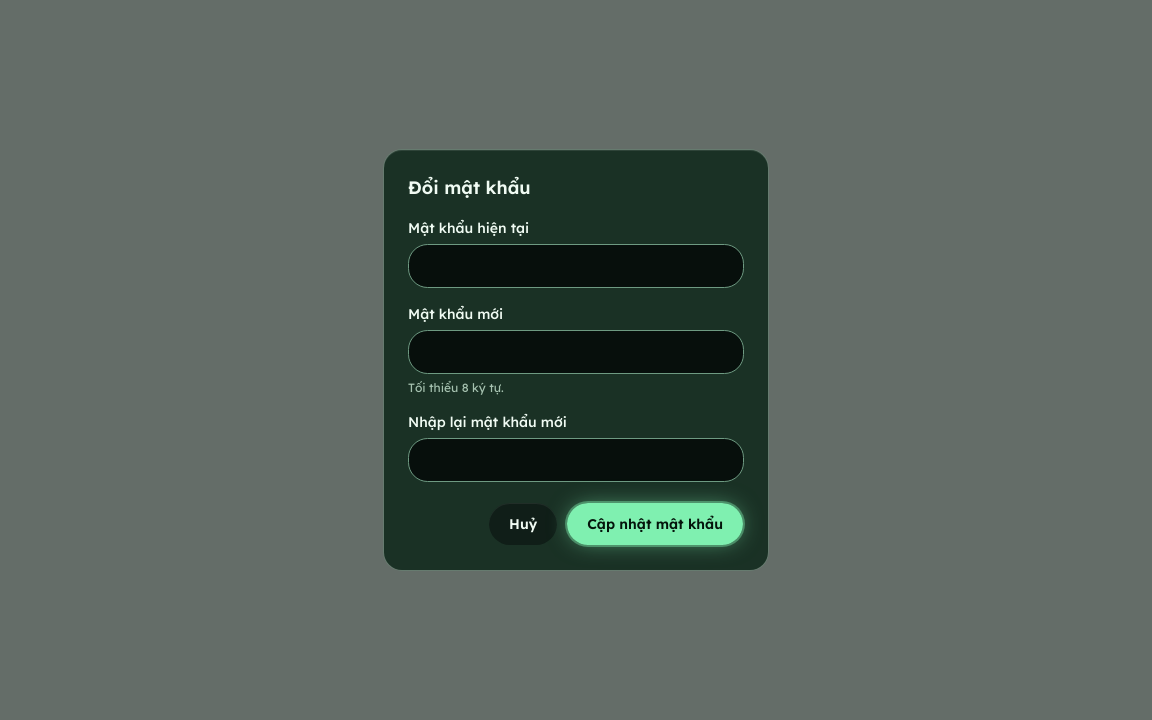
it: đường server › sai mật khẩu hiện tại → hộp thoại VẪN MỞ, gửi lại được ngay (AC-018d)
This screenshot has width=1152, height=720.
Type "sai-mat-khau" into the password field labelled "Mật khẩu hiện tại" at (576, 266), box x1=408 y1=244 x2=744 y2=288
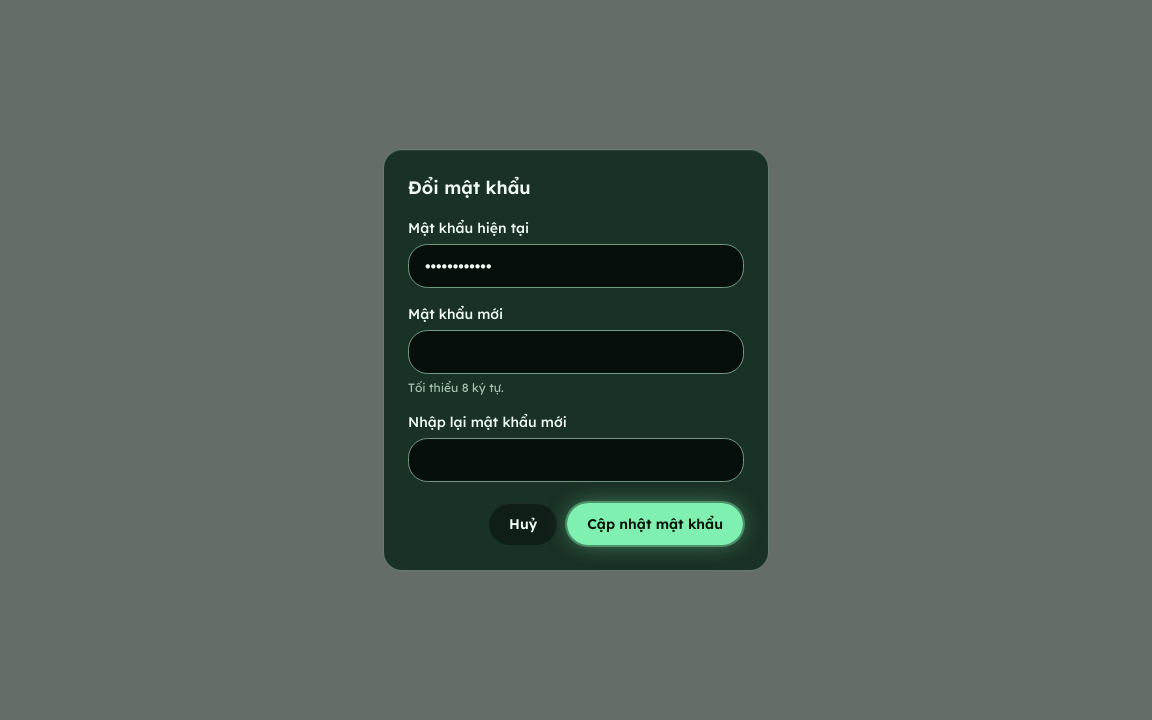
Type "moi-rich-2026" into the password field labelled "Mật khẩu mới" at (576, 352), box x1=408 y1=330 x2=744 y2=374
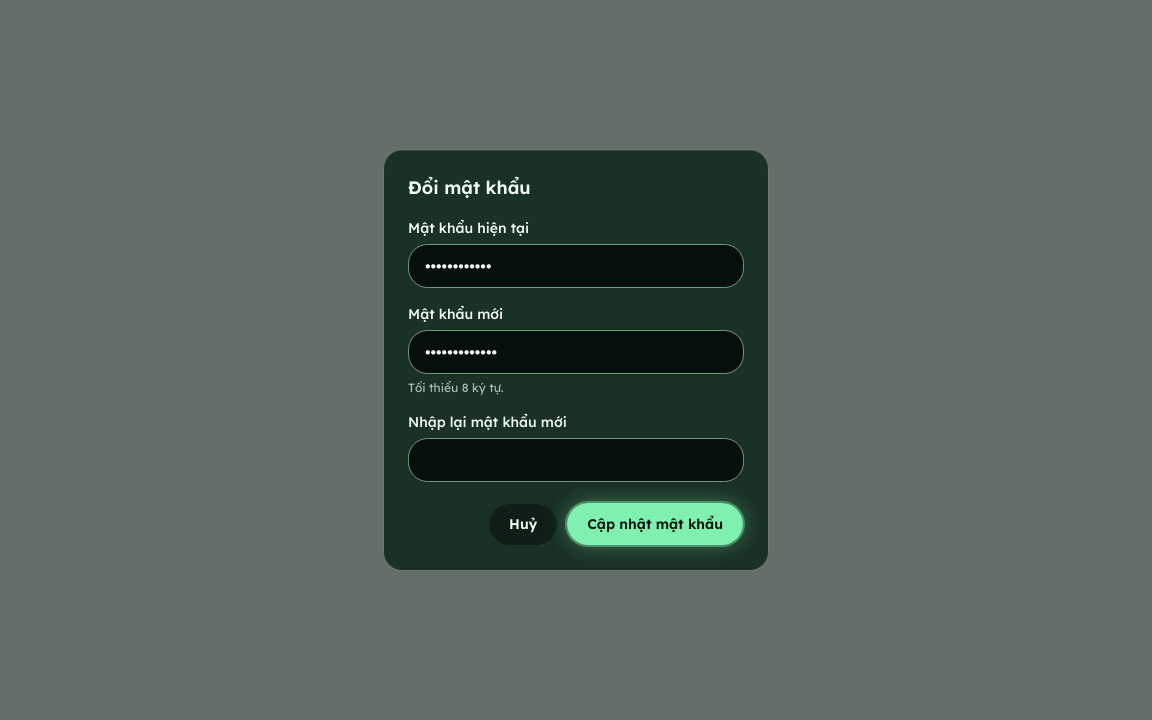
Type "moi-rich-2026" into the password field labelled "Nhập lại mật khẩu mới" at (576, 460), box x1=408 y1=438 x2=744 y2=482
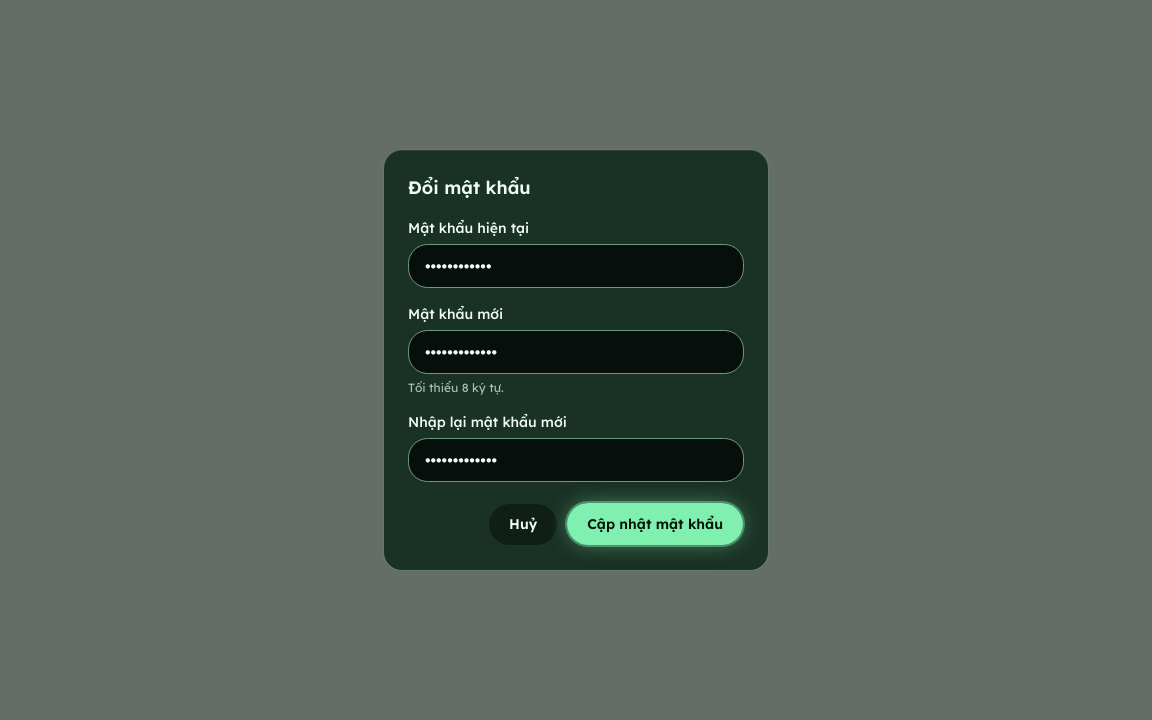
Submit the form, box x1=408 y1=218 x2=744 y2=546
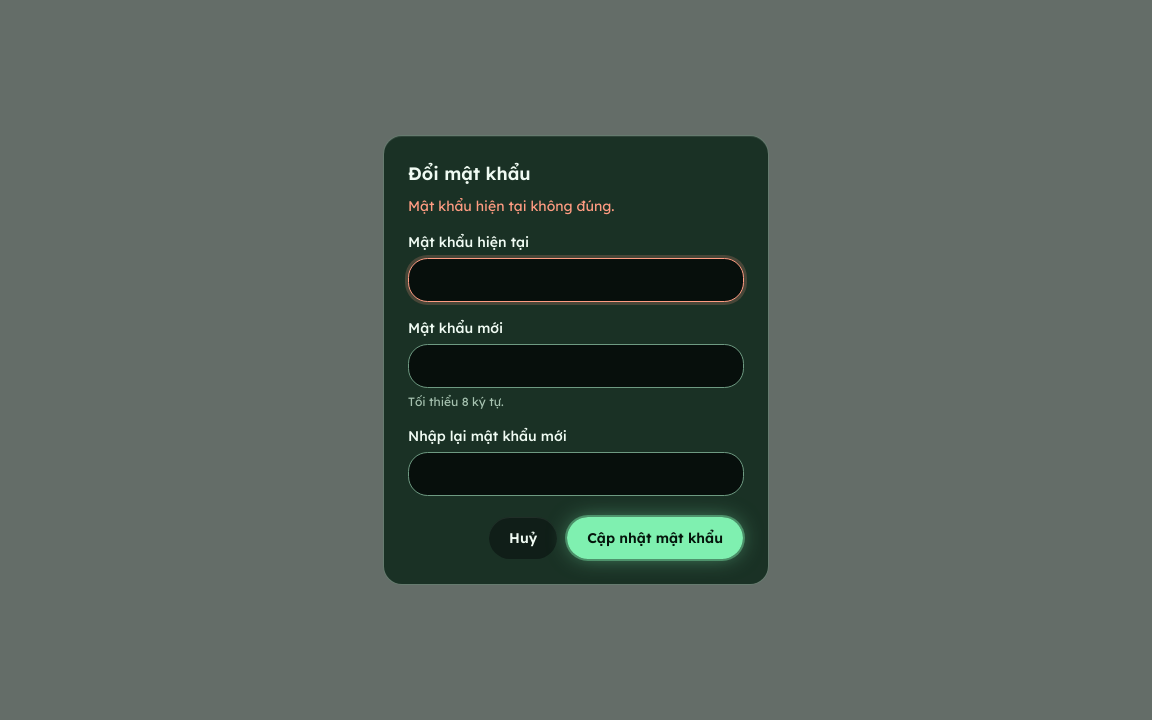
Now the message reads "Mật khẩu hiện tại không đúng.", box x1=408 y1=197 x2=615 y2=215
